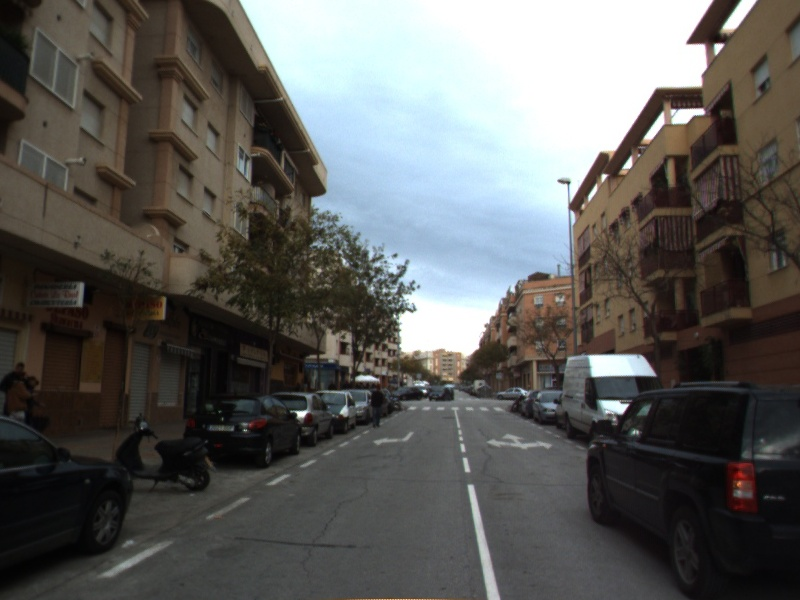STRAIGHT_LEFT_RIGHT: (485, 432, 555, 451)
